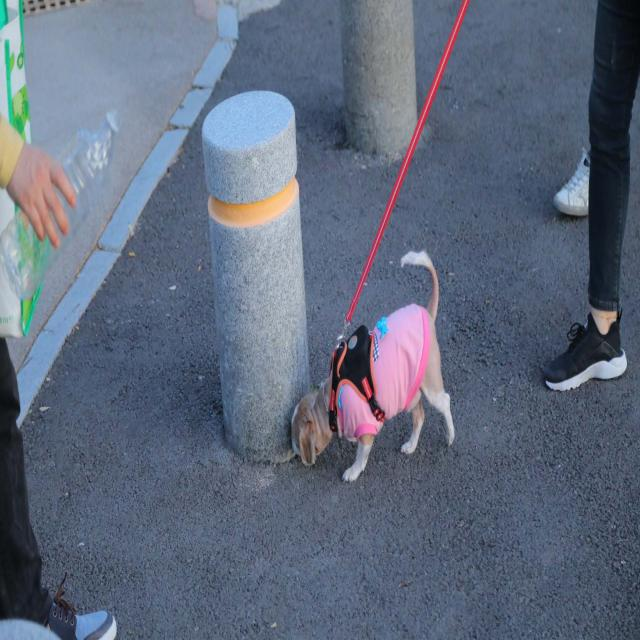Dog: (290, 250, 455, 483)
